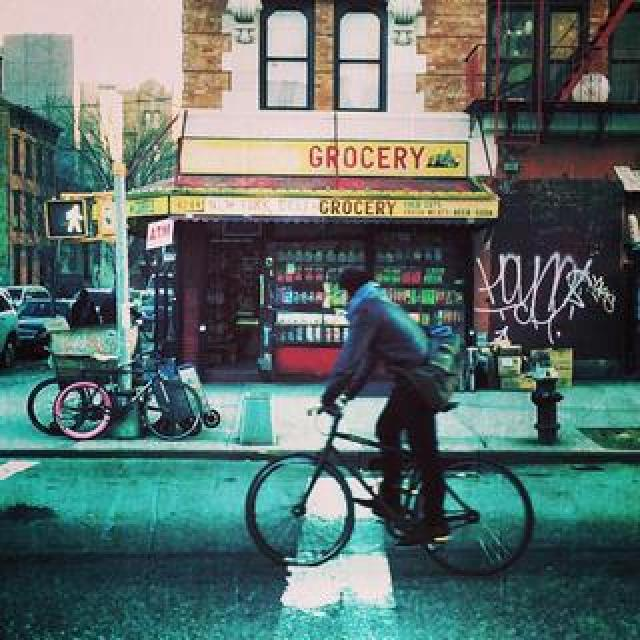Bus-Bike: (10, 296, 72, 362)
MC-Bike: (316, 262, 446, 542)
Person: (248, 398, 532, 578), (54, 350, 204, 442)
